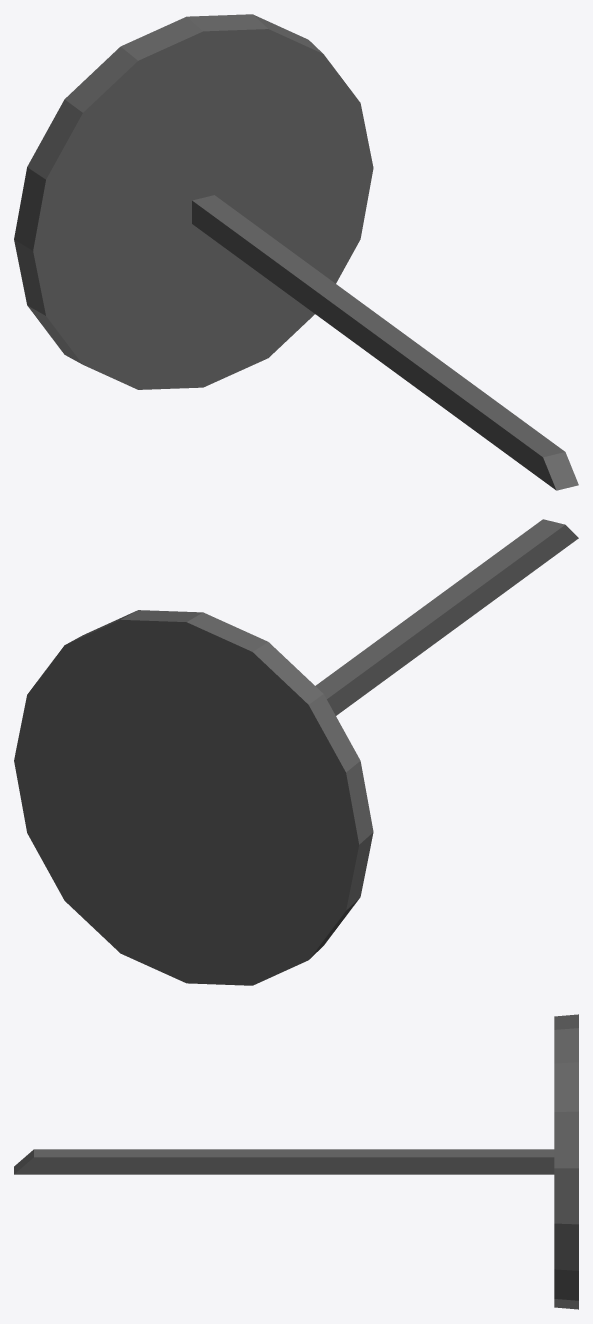
File: Table_Lamp_1.obj
The picture shows the model from 3 angles, top to bottom: view 1: azimuth 30°, elevation 25°; view 2: azimuth 150°, elevation 25°; view 3: azimuth 270°, elevation 25°; orthographic projection. The views are drawn at different scales.
Visible parts, largest first — view 1: Table_Lamp_1; view 2: Table_Lamp_1; view 3: Table_Lamp_1.
Part boxes in pixels (<box>): Table_Lamp_1: <box>14,14,578,490</box>; Table_Lamp_1: <box>14,519,578,985</box>; Table_Lamp_1: <box>14,1014,578,1309</box>.
Bounding box in the file's own units: 0.1339 × 0.1339 × 0.2561.
